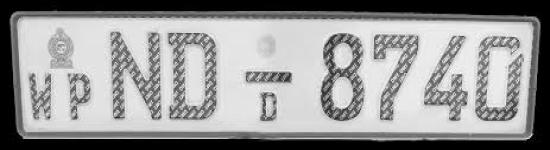-: (242, 64, 296, 90)
0: (472, 29, 527, 125)
4: (424, 28, 471, 126)
7: (369, 28, 422, 125)
8: (316, 26, 369, 130)
D: (165, 24, 222, 127)
N: (107, 23, 164, 126)
P: (63, 70, 96, 127)
W: (24, 66, 58, 124)
